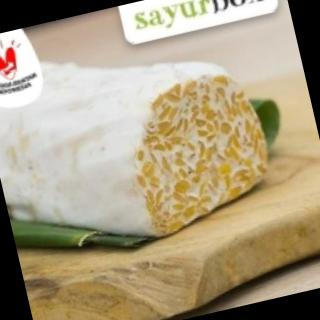Tempe: (1, 12, 283, 272)
